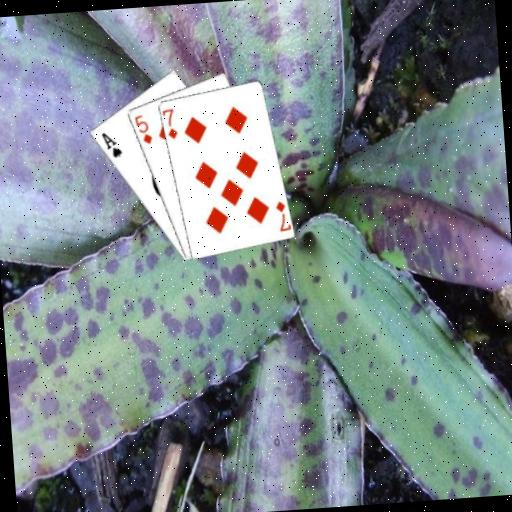5D: (131, 111, 155, 146)
7D: (160, 105, 179, 142), (272, 197, 291, 233)
AS: (98, 128, 124, 160)
